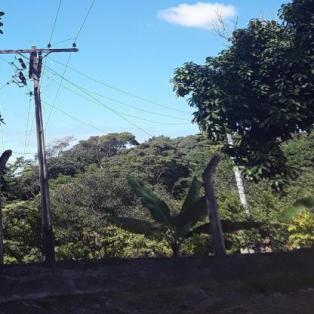Poste: (26, 43, 66, 258)
